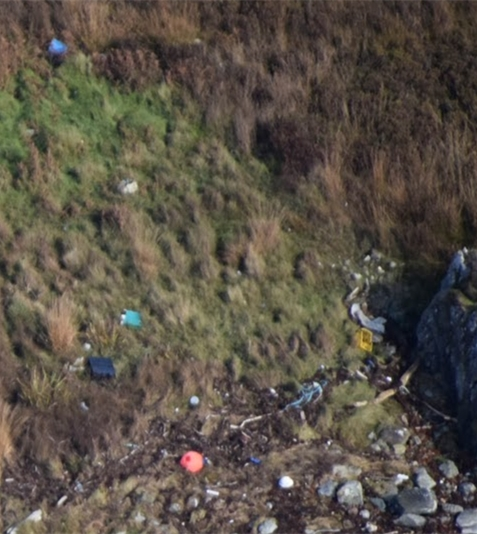net: (274, 373, 334, 419)
scattered_barrel: (14, 14, 184, 388)
together_barrel: (346, 273, 431, 409)
white_in_green: (152, 425, 235, 492), (258, 459, 316, 507)
